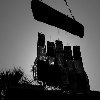beer: (71, 44, 92, 100)
